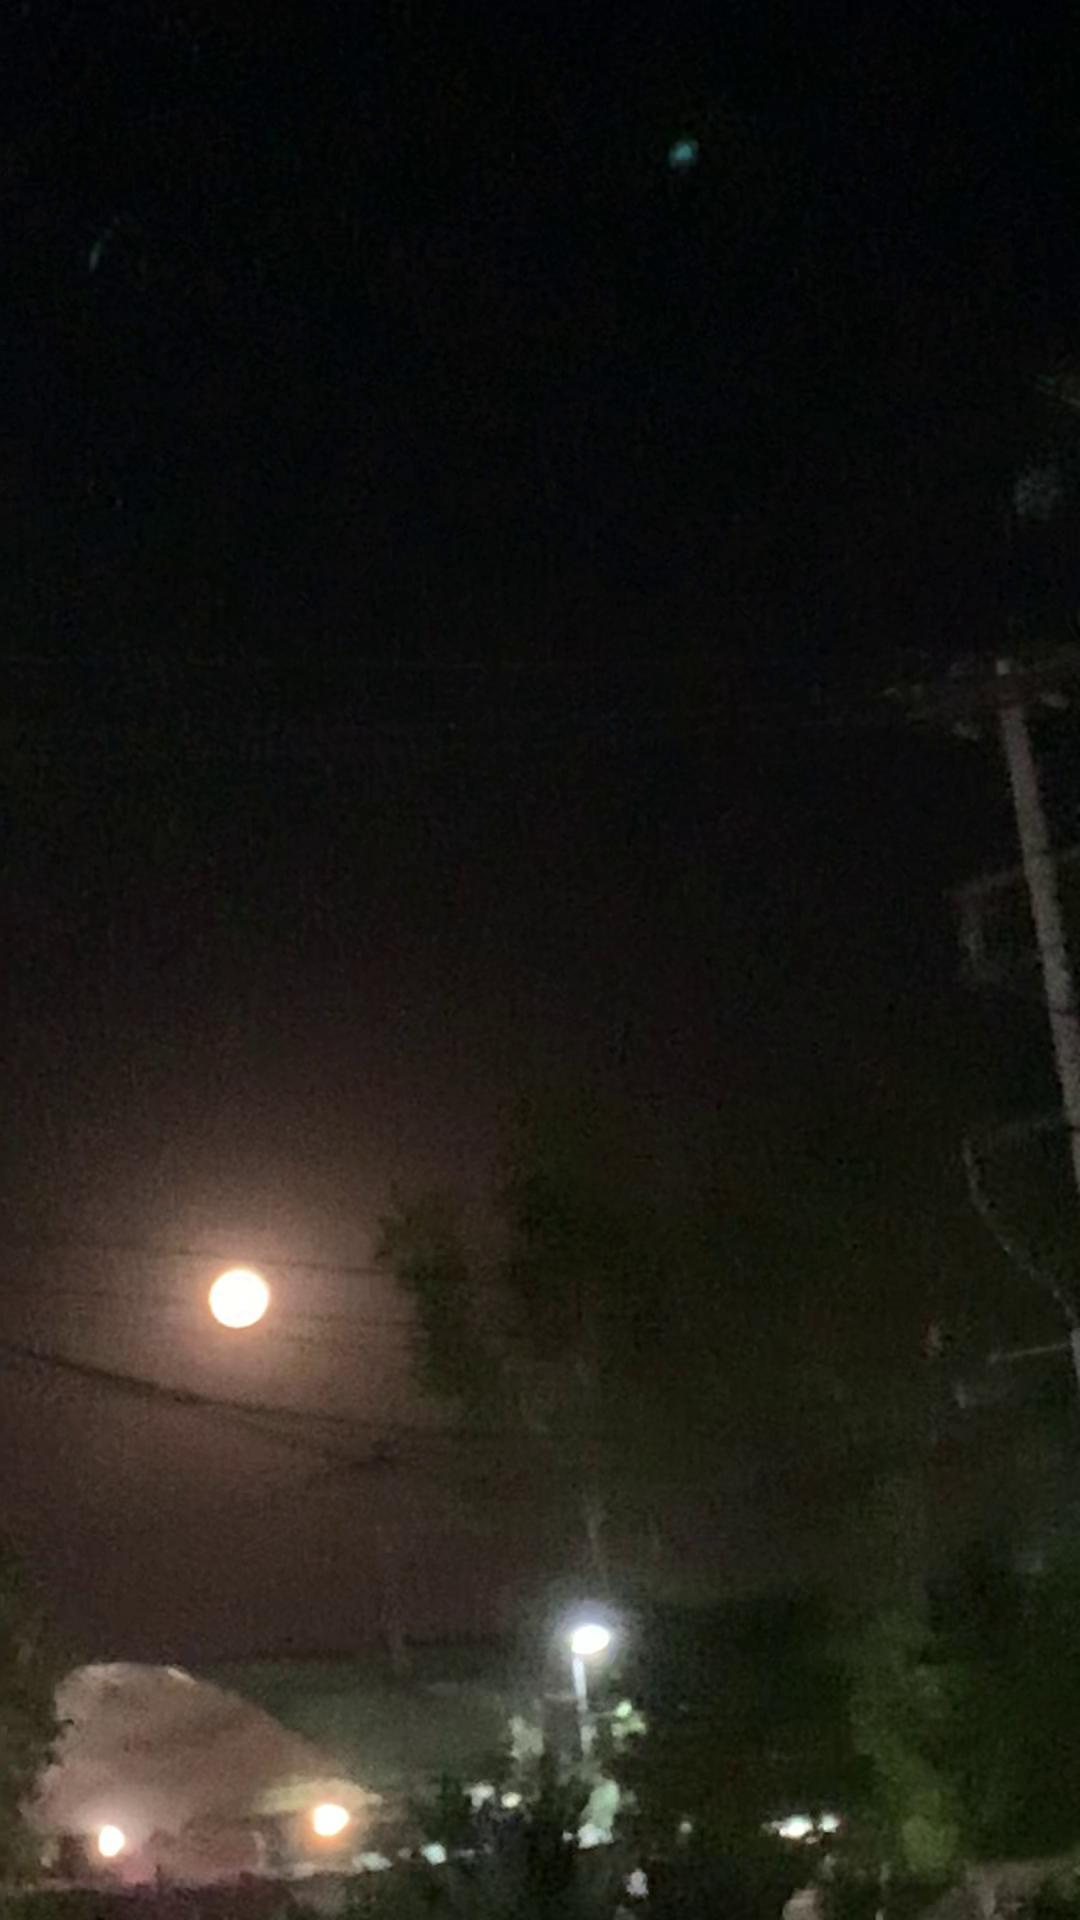moon: (187, 1279, 285, 1361)
